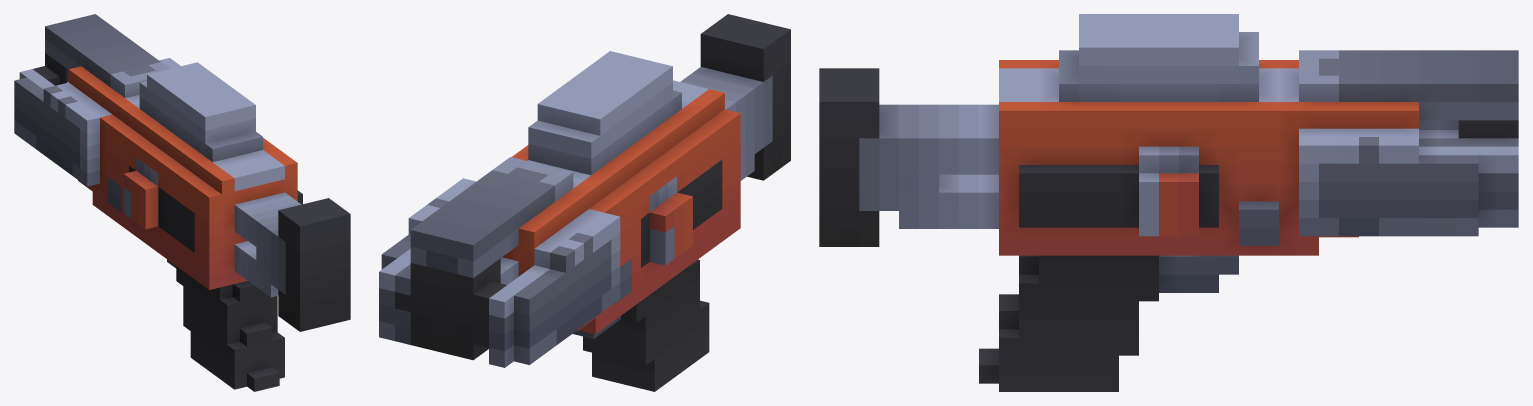
Rendered from blaster_n.glb.
3 renders of one model, left to right at view 1: azimuth 30°, elevation 25°; view 2: azimuth 150°, elevation 25°; view 3: azimuth 270°, elevation 25°, orthographic. The views are drawn at different scales.
Visible parts, largest first — view 1: voxels; view 2: voxels; view 3: voxels.
Boxes of the visible parts, left/top/right/bottom form: voxels: left=14, top=14, right=350, bottom=391; voxels: left=379, top=14, right=790, bottom=391; voxels: left=819, top=14, right=1518, bottom=391.
Size of the model in its own units: 0.1833 by 0.3484 by 0.6417.
